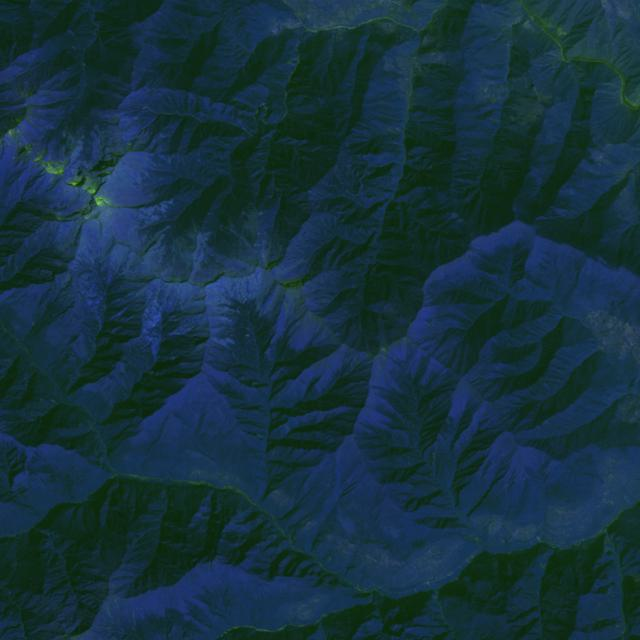landslides: (233, 99, 257, 108), (602, 556, 617, 568), (103, 600, 112, 620), (110, 596, 120, 611), (386, 125, 399, 135)
